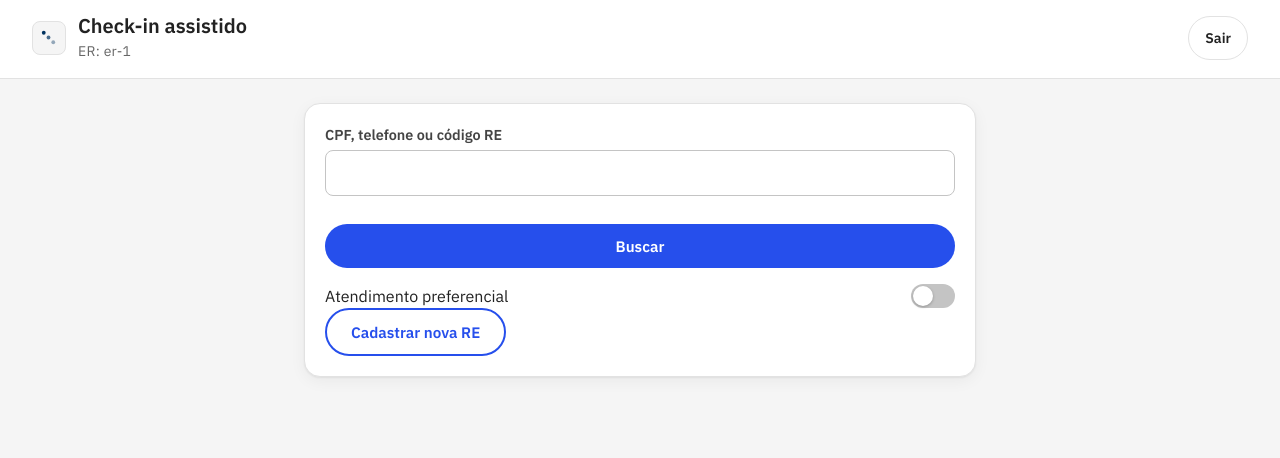
Test: CheckinAttendantPage › searches representatives and reports an empty result
This screenshot has width=1280, height=458.
Step 1. Type "ana" into the field labelled "CPF, telefone ou código RE" → (640, 173), box [325, 150, 955, 196]
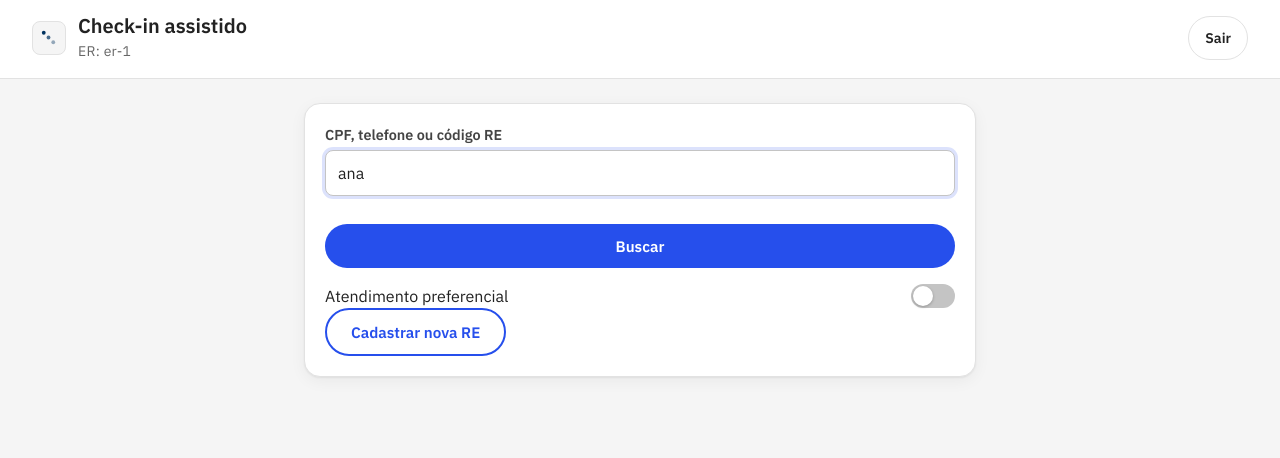
Step 2. Click the button "Buscar" → (640, 246), box [325, 224, 955, 268]
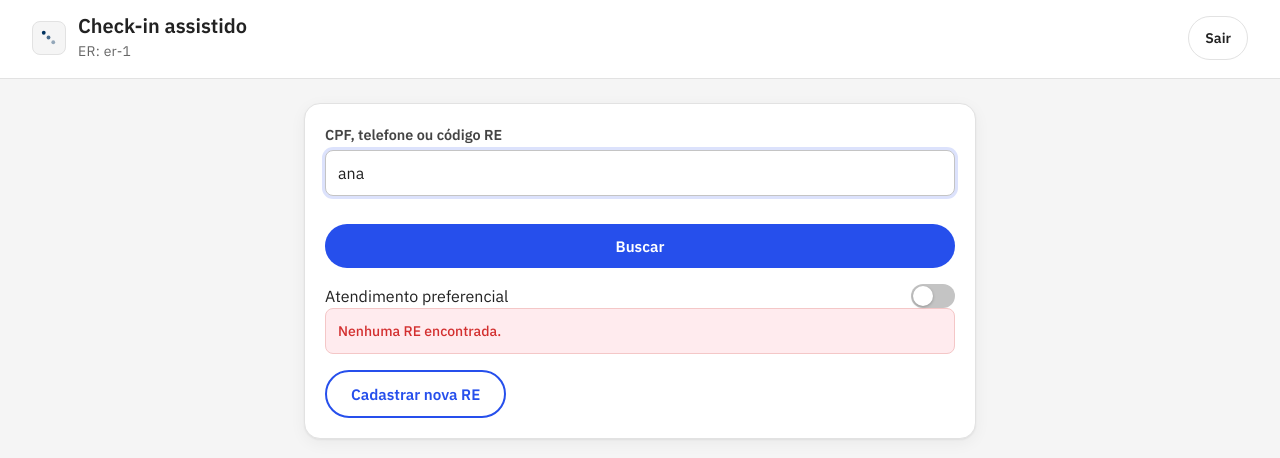
Expected: the text "Nenhuma RE encontrada." is shown, [325, 308, 955, 354]
